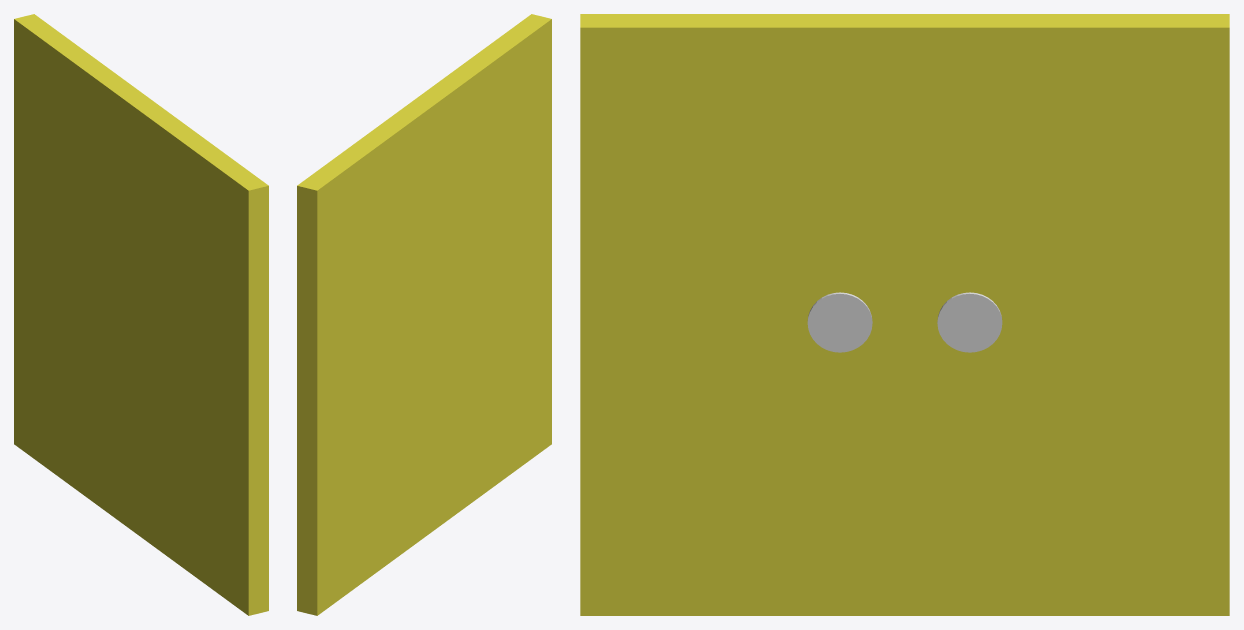
File: metal_doors.fbx
3 views of the same model, side by side, from view 1: azimuth 30°, elevation 25°; view 2: azimuth 150°, elevation 25°; view 3: azimuth 270°, elevation 25° (orthographic). The views are drawn at different scales.
Parts seen in each view (by area): view 1: Plane.001, Plane; view 2: Plane, Plane.001; view 3: Plane, Plane.001, Circle, Circle.001.
Boxes of the visible parts, x1,y1,x2,y2 form: Plane.001: (131, 100, 268, 615); Plane: (14, 14, 151, 529); Plane: (297, 100, 434, 615); Plane.001: (414, 14, 551, 529); Plane: (905, 14, 1229, 615); Plane.001: (580, 14, 904, 615); Circle: (937, 292, 1002, 352); Circle.001: (807, 292, 872, 352).
Bounding box in the file's own units: 11 × 200 × 200.
